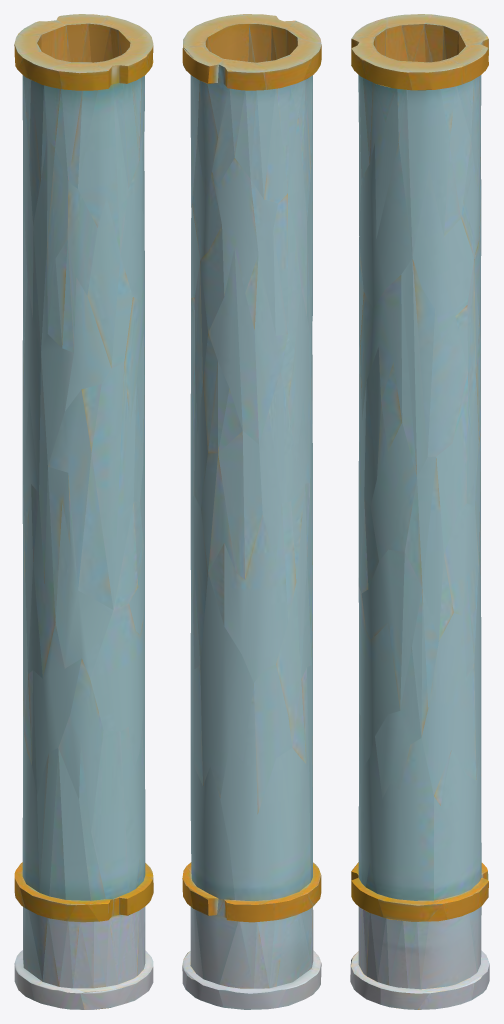
File: post.glb
3 views of the same model, side by side, from view 1: azimuth 30°, elevation 25°; view 2: azimuth 150°, elevation 25°; view 3: azimuth 270°, elevation 25° (orthographic).
Visible parts, largest first — view 1: mesh_node; view 2: mesh_node; view 3: mesh_node.
Boxes of the visible parts, left/top/right/bottom form: mesh_node: left=14, top=14, right=153, bottom=1009; mesh_node: left=182, top=14, right=321, bottom=1009; mesh_node: left=350, top=14, right=489, bottom=1009.
Size of the model in its own units: 0.256 by 1.9 by 0.256.
1 material, 1 textured.
